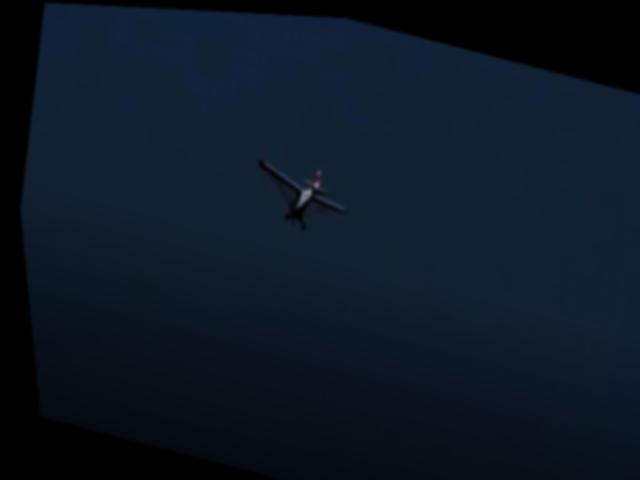uav: (234, 137, 360, 251)
